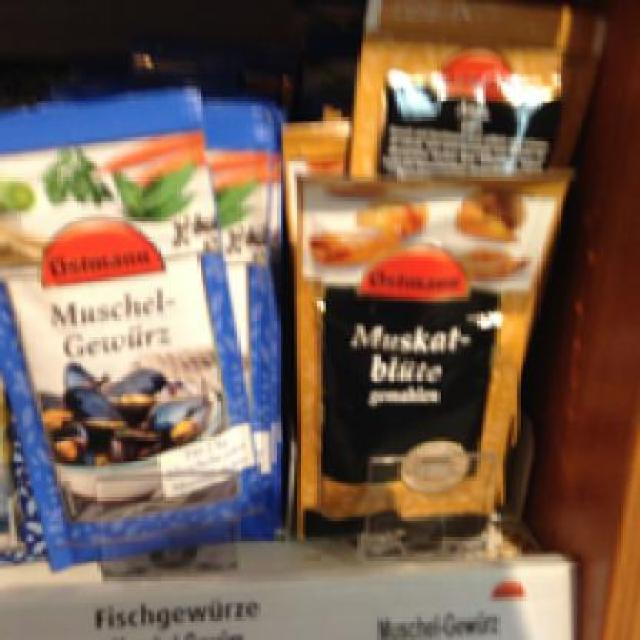Spices: (0, 83, 277, 566), (283, 126, 566, 548)
